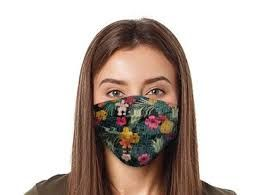with-mask: (81, 20, 187, 172)
